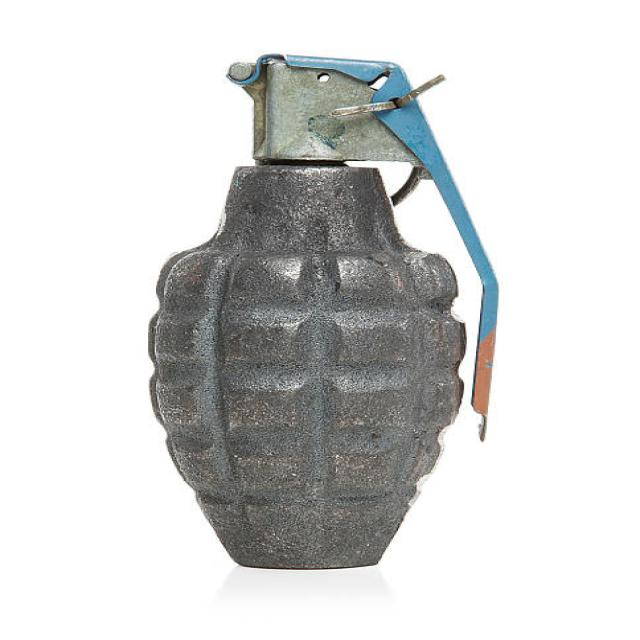grenade: (122, 47, 523, 583)
